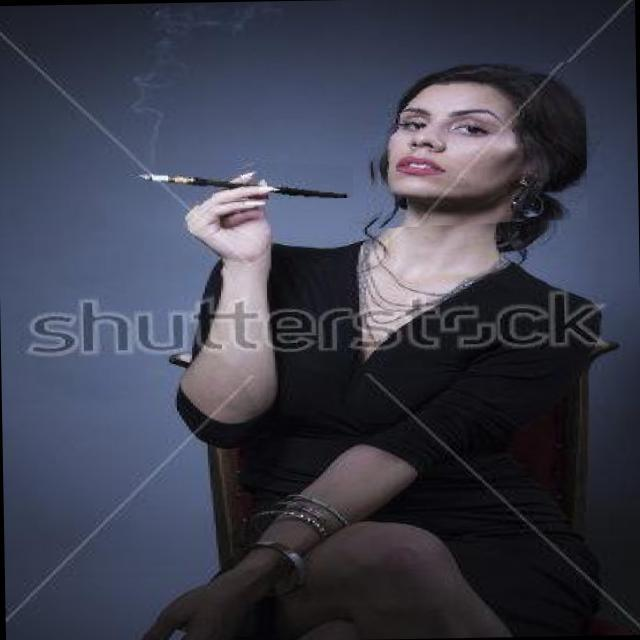cigarette: (112, 150, 353, 202)
